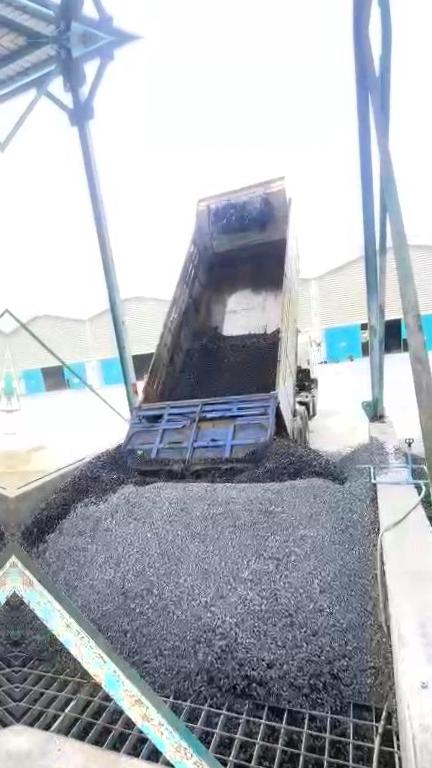gravel: (16, 420, 390, 708), (166, 327, 277, 398), (15, 596, 62, 653), (420, 483, 432, 545)
sand: (11, 449, 58, 493)
